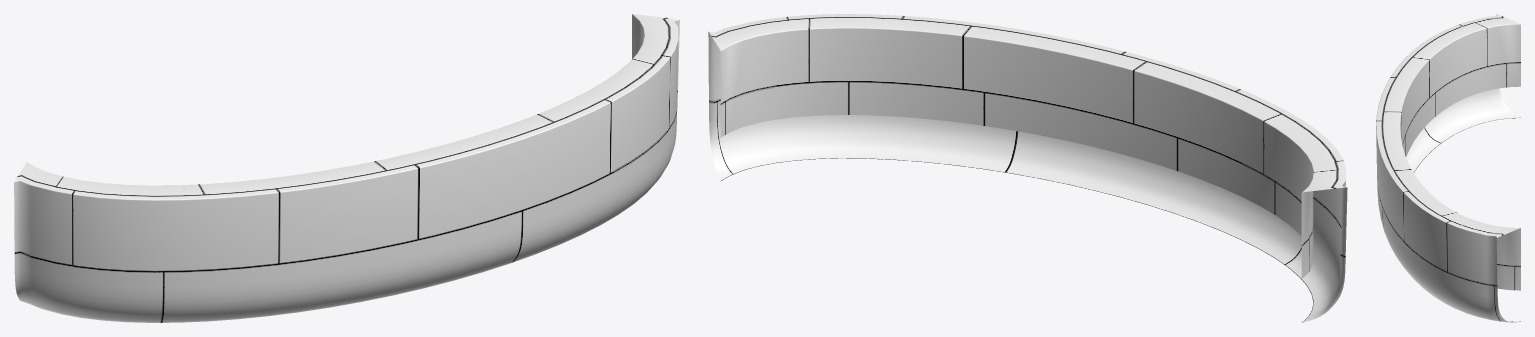
The model's file is Parapet01_700xR175cm.FBX.
3 views of the same model, side by side, from view 1: azimuth 30°, elevation 25°; view 2: azimuth 150°, elevation 25°; view 3: azimuth 270°, elevation 25° (orthographic). The views are drawn at different scales.
Visible parts, largest first — view 1: Parapet01_700xR175cm; view 2: Parapet01_700xR175cm; view 3: Parapet01_700xR175cm.
Part boxes in pixels (x1=…): Parapet01_700xR175cm: x1=14, y1=14, x2=679, y2=322; Parapet01_700xR175cm: x1=708, y1=14, x2=1347, y2=322; Parapet01_700xR175cm: x1=1376, y1=14, x2=1520, y2=322.
Size of the model in its own units: 770 by 150 by 210.
